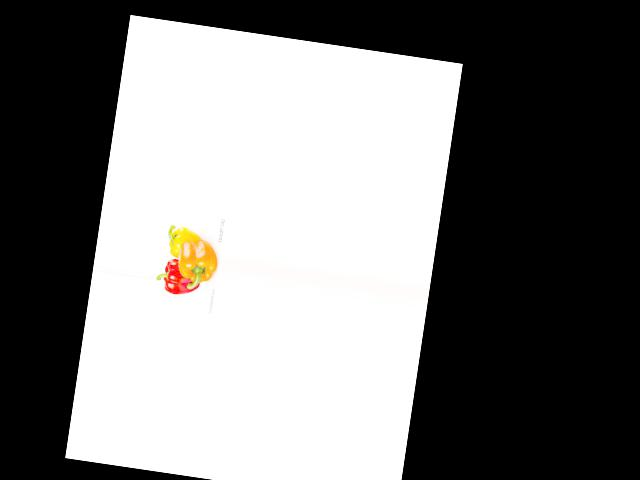bell_pepper: (162, 222, 204, 262)
